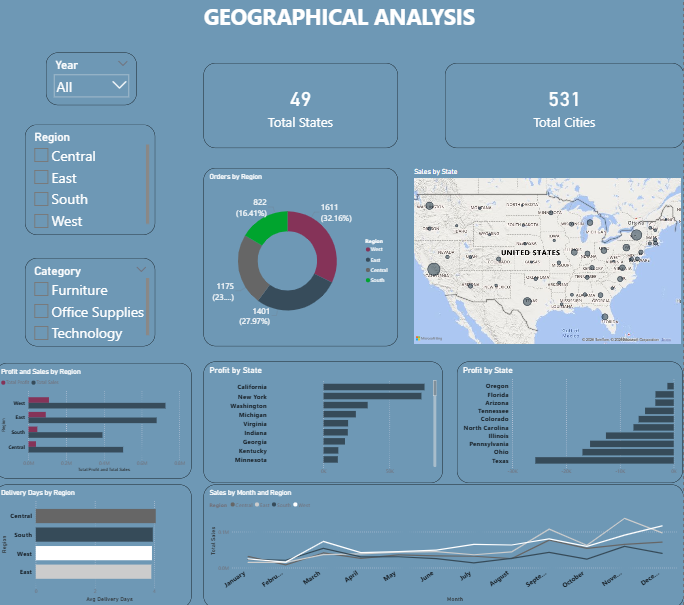

Layout of this report page (visuals, bound fields, positions):
{"tool":"powerbi","page":{"name":"GEOGRAPHICAL ANALYSIS","canvas":[1700,1500],"ordinal":4},"visuals":[{"type":"slicer","fields":{"Values":["DateTable.Year"]},"box":[124.2,130.3,224.2,130.3],"z":0},{"type":"slicer","fields":{"Values":["Superstore.Region"]},"box":[75.8,309.1,321.2,272.7],"z":1000},{"type":"slicer","fields":{"Values":["Superstore.Category"]},"box":[75.8,636.4,321.2,218.2],"z":2000},{"type":"card","fields":{"Values":["DateTable.Total Cities"]},"box":[1110,155,590,210],"z":3000},{"type":"card","fields":{"Values":["DateTable.Total States"]},"box":[515,155,480,210],"z":4000},{"type":"donutChart","title":"Orders by Region","fields":{"Category":["Superstore.Region"],"Y":["DateTable.Total Orders"]},"box":[515,415,480,440],"z":5000},{"type":"map","title":"Sales by State","fields":{"Category":["Superstore.State"],"Size":["Superstore.Total Sales"]},"box":[1030,415,670,440],"z":6000},{"type":"barChart","title":"Profit by State","fields":{"Category":["Superstore.State"],"Y":["DateTable.Total Profit"]},"box":[515.2,893.9,590.9,300],"z":7000},{"type":"clusteredBarChart","title":"Profit and Sales by Region","fields":{"Category":["Superstore.Region"],"Y":["DateTable.Total Profit","Superstore.Total Sales"]},"box":[0,895,485,285],"z":8000},{"type":"barChart","title":"Profit by State","fields":{"Category":["Superstore.State"],"Y":["DateTable.Total Profit"]},"box":[1142.4,893.9,557.6,300],"z":9000},{"type":"barChart","title":"Delivery Days by Region","fields":{"Category":["Superstore.Region"],"Y":["DateTable.Avg Delivery Days"]},"box":[0,1195,485,305],"z":10000},{"type":"lineChart","title":"Sales by Month and Region","fields":{"Y":["Superstore.Total Sales"],"Series":["Superstore.Region"],"Category":["DateTable.Date.Variation.Date Hierarchy.Month"]},"box":[515,1195,1185,305],"z":11000},{"type":"textbox","box":[0,0,1700,130.3],"z":12000}]}

Visuals, with their boxes in screenshot pixels (x1, y1, x2, y2), scaled from the page's 1700x1500 canvas onto the 684x605 screenshot:
slicer - DateTable.Year: select_region(50, 53, 140, 105)
slicer - Superstore.Region: select_region(30, 125, 160, 235)
slicer - Superstore.Category: select_region(30, 257, 160, 345)
card - DateTable.Total Cities: select_region(447, 63, 683, 147)
card - DateTable.Total States: select_region(207, 63, 400, 147)
"Orders by Region" donutChart: select_region(207, 167, 400, 345)
"Sales by State" map: select_region(414, 167, 683, 345)
"Profit by State" barChart: select_region(207, 361, 445, 482)
"Profit and Sales by Region" clusteredBarChart: select_region(0, 361, 195, 476)
"Profit by State" barChart: select_region(460, 361, 683, 482)
"Delivery Days by Region" barChart: select_region(0, 482, 195, 604)
"Sales by Month and Region" lineChart: select_region(207, 482, 683, 604)
textbox: select_region(0, 0, 683, 53)
